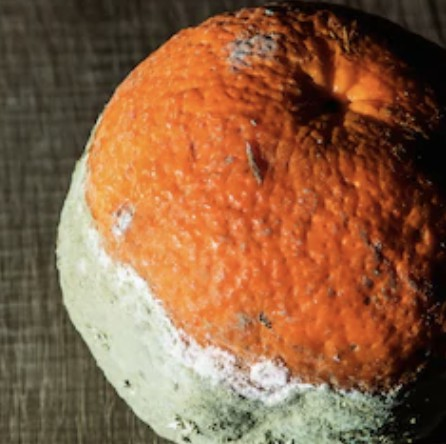rotten_orange: (57, 10, 446, 444)
